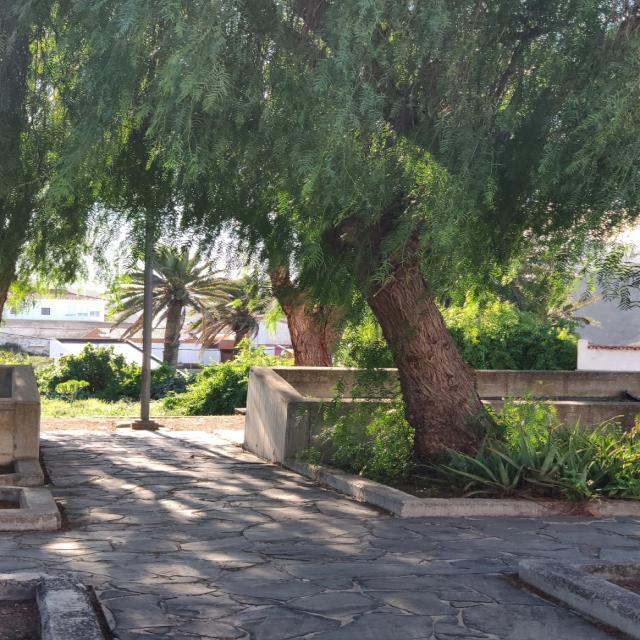Palm-Trees: (108, 242, 236, 375)
